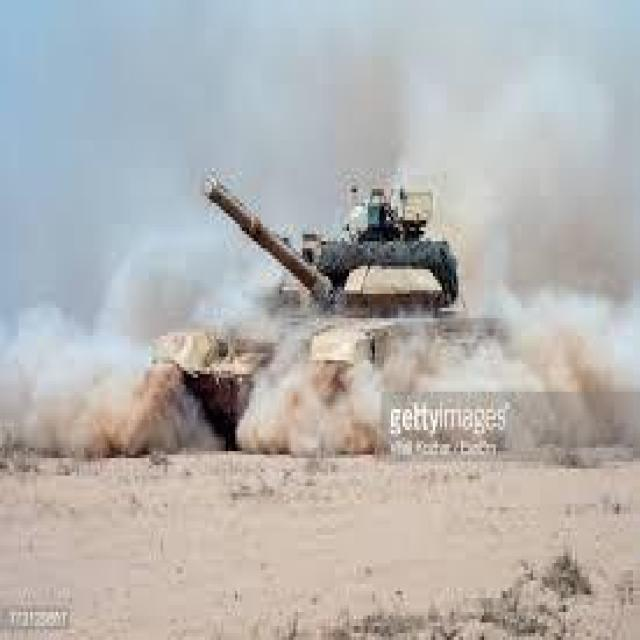Tanks: (87, 94, 553, 524)
